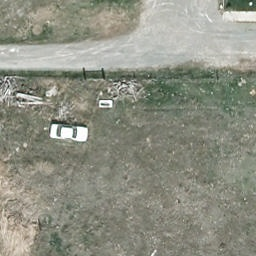car: (48, 121, 91, 144)
